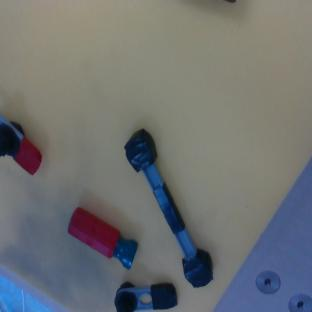part_1_bad: (114, 280, 177, 311)
part_1_good: (0, 113, 52, 175)
part_2_good: (62, 205, 144, 270)
part_3_bad: (118, 126, 221, 292)
